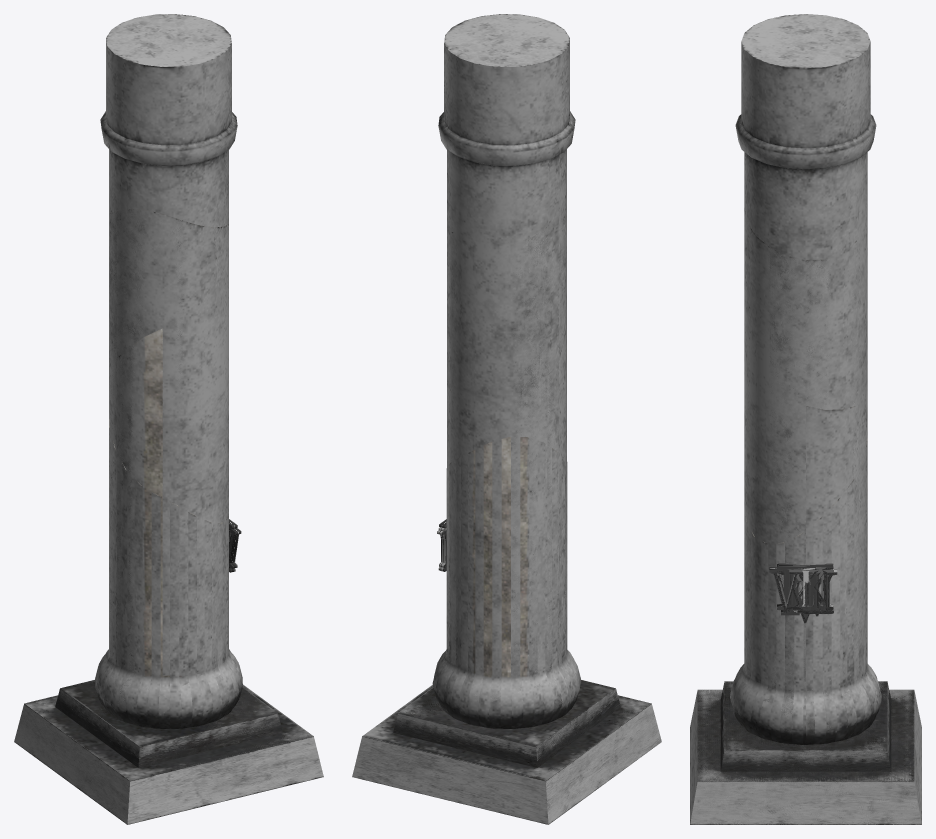
Rendered from pillar.fbx.
3 views of the same model, side by side, from view 1: azimuth 30°, elevation 25°; view 2: azimuth 150°, elevation 25°; view 3: azimuth 270°, elevation 25° (orthographic). The views are drawn at different scales.
Parts seen in each view (by area): view 1: Pillar_1_V4_Pillar_Stone3_0, Pillar_1_V5_Pillar_Stone4_0, Pillar_1_V2_Pillar_Stone1_0, Pillar_1_V3_Pillar_Stone2_0; view 2: Pillar_1_V5_Pillar_Stone4_0, Pillar_1_V2_Pillar_Stone1_0, Pillar_1_V4_Pillar_Stone3_0, Pillar_1_V3_Pillar_Stone2_0; view 3: Pillar_1_V5_Pillar_Stone4_0, Pillar_1_V4_Pillar_Stone3_0, Pillar_1_V2_Pillar_Stone1_0, Pillar_1_V3_Pillar_Stone2_0, 7, 3, 6.
Part boxes in pixels (<box>): Pillar_1_V4_Pillar_Stone3_0: <box>15,209,321,816</box>; Pillar_1_V5_Pillar_Stone4_0: <box>14,14,323,824</box>; Pillar_1_V2_Pillar_Stone1_0: <box>14,419,312,812</box>; Pillar_1_V3_Pillar_Stone2_0: <box>17,328,280,824</box>; Pillar_1_V5_Pillar_Stone4_0: <box>358,14,656,824</box>; Pillar_1_V2_Pillar_Stone1_0: <box>352,437,661,824</box>; Pillar_1_V4_Pillar_Stone3_0: <box>362,184,660,822</box>; Pillar_1_V3_Pillar_Stone2_0: <box>395,312,654,822</box>; Pillar_1_V5_Pillar_Stone4_0: <box>690,14,921,824</box>; Pillar_1_V4_Pillar_Stone3_0: <box>691,208,920,824</box>; Pillar_1_V2_Pillar_Stone1_0: <box>692,438,921,824</box>; Pillar_1_V3_Pillar_Stone2_0: <box>690,405,913,824</box>; 7: <box>769,567,833,614</box>; 3: <box>778,563,833,609</box>; 6: <box>771,571,832,613</box>.
Bounding box in the file's own units: 891 × 3117 × 891.
4 materials, 4 textured.
